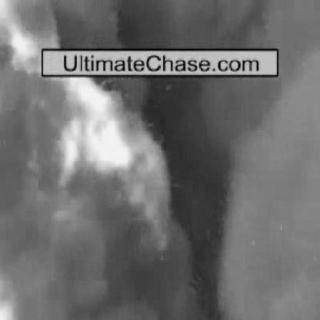Fire: (60, 78, 172, 241), (4, 0, 47, 78), (1, 280, 25, 314)
Smoke: (187, 92, 314, 248), (70, 263, 286, 315), (3, 99, 50, 259)
